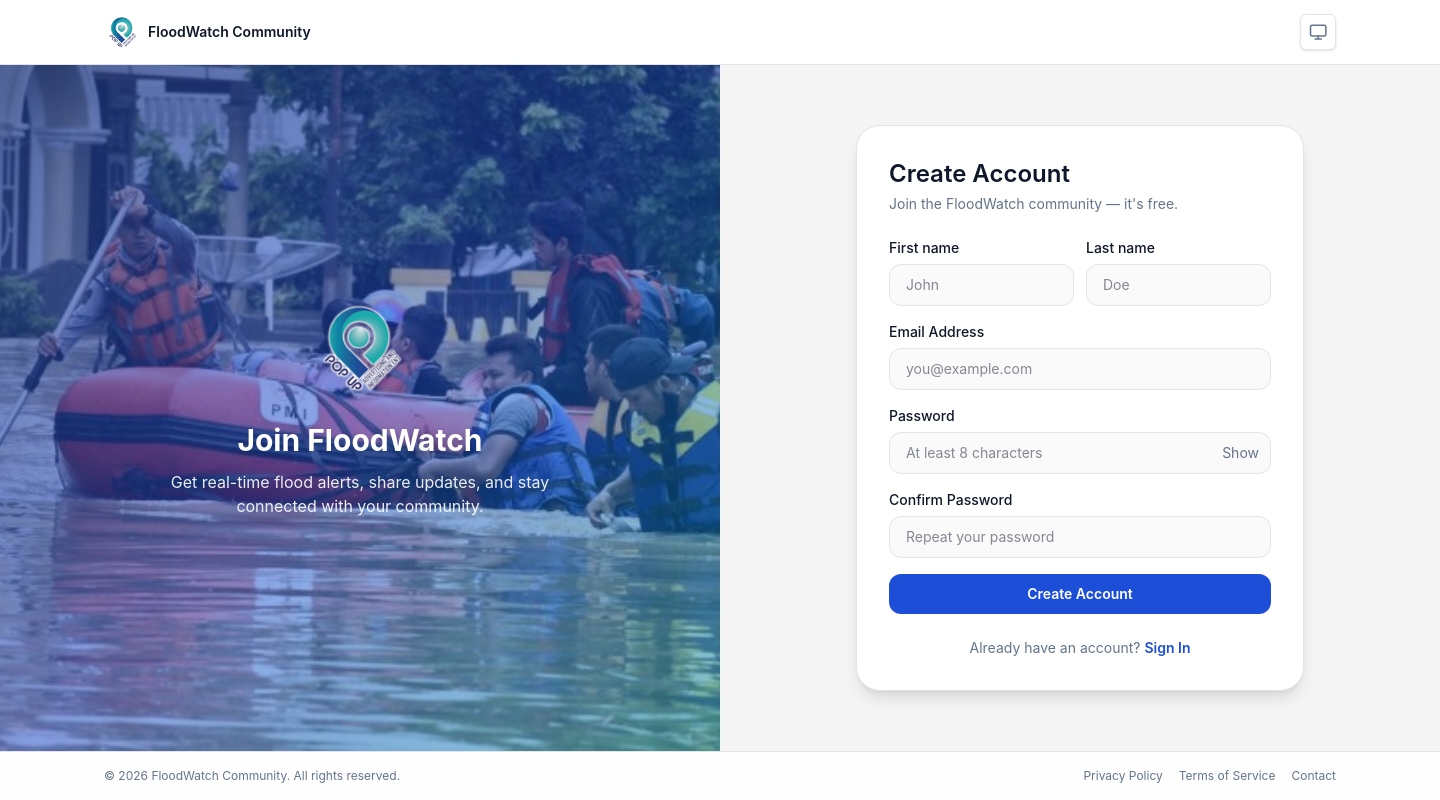
Test case: Community · register › surfaces the rate-limit message on 429 (no dead-end)
Type "Ada" into the field with id "firstName". click: (982, 285)
box: [889,264,1074,306]
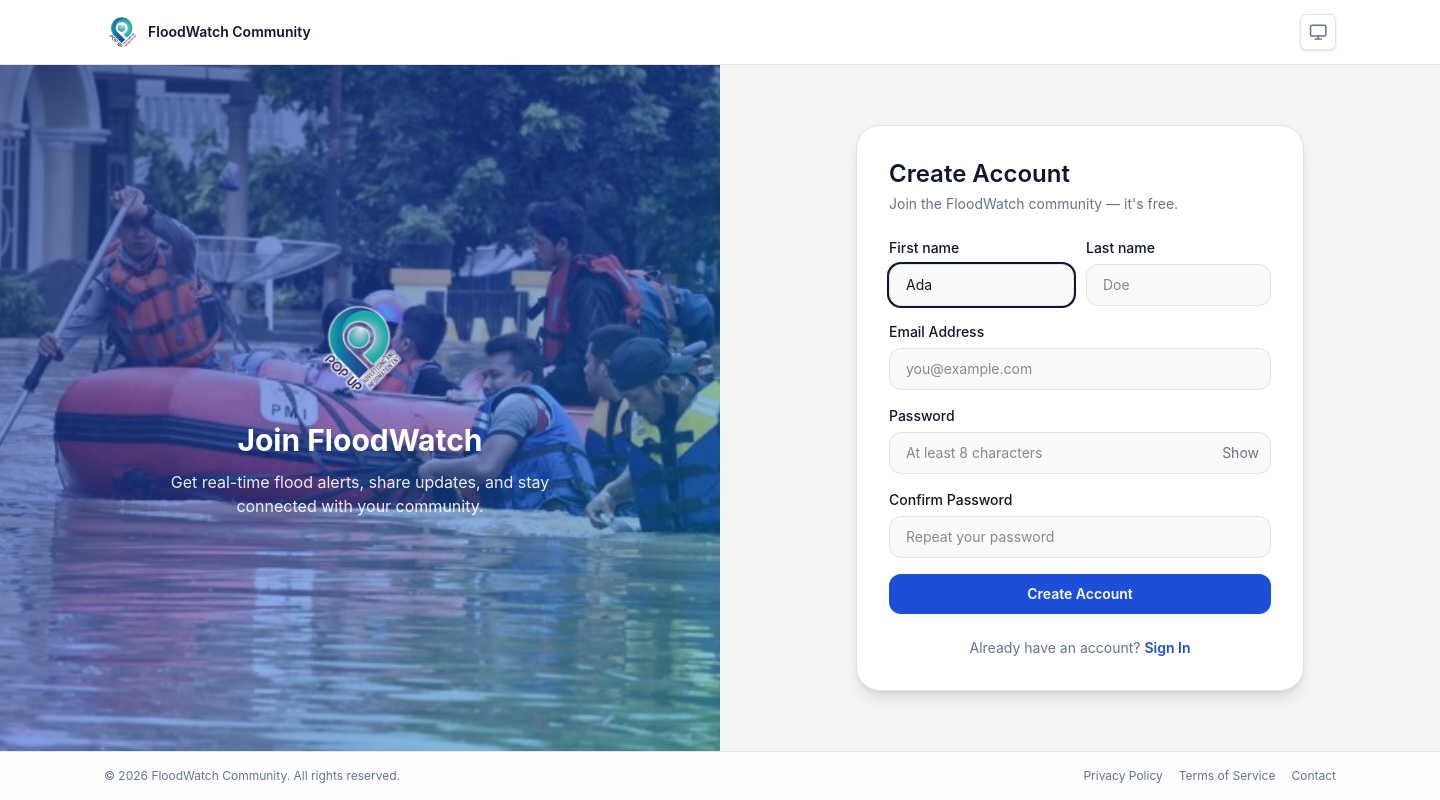
Type "Lovelace" into the field with id "lastName". click: (1179, 285)
box: [1086,264,1271,306]
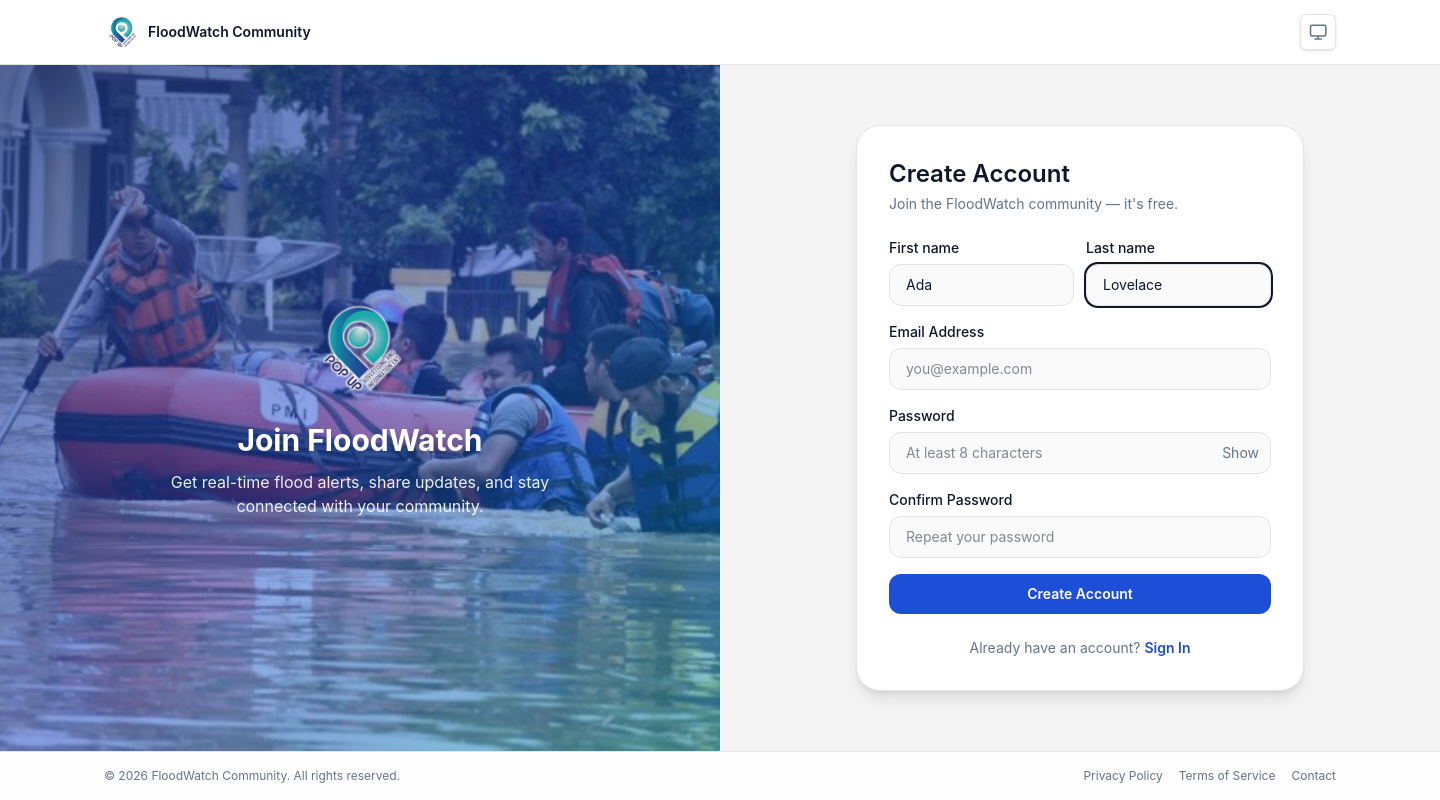
Type "ada@example.com" into the field with id "email". click: (1080, 369)
box: [889,348,1271,390]
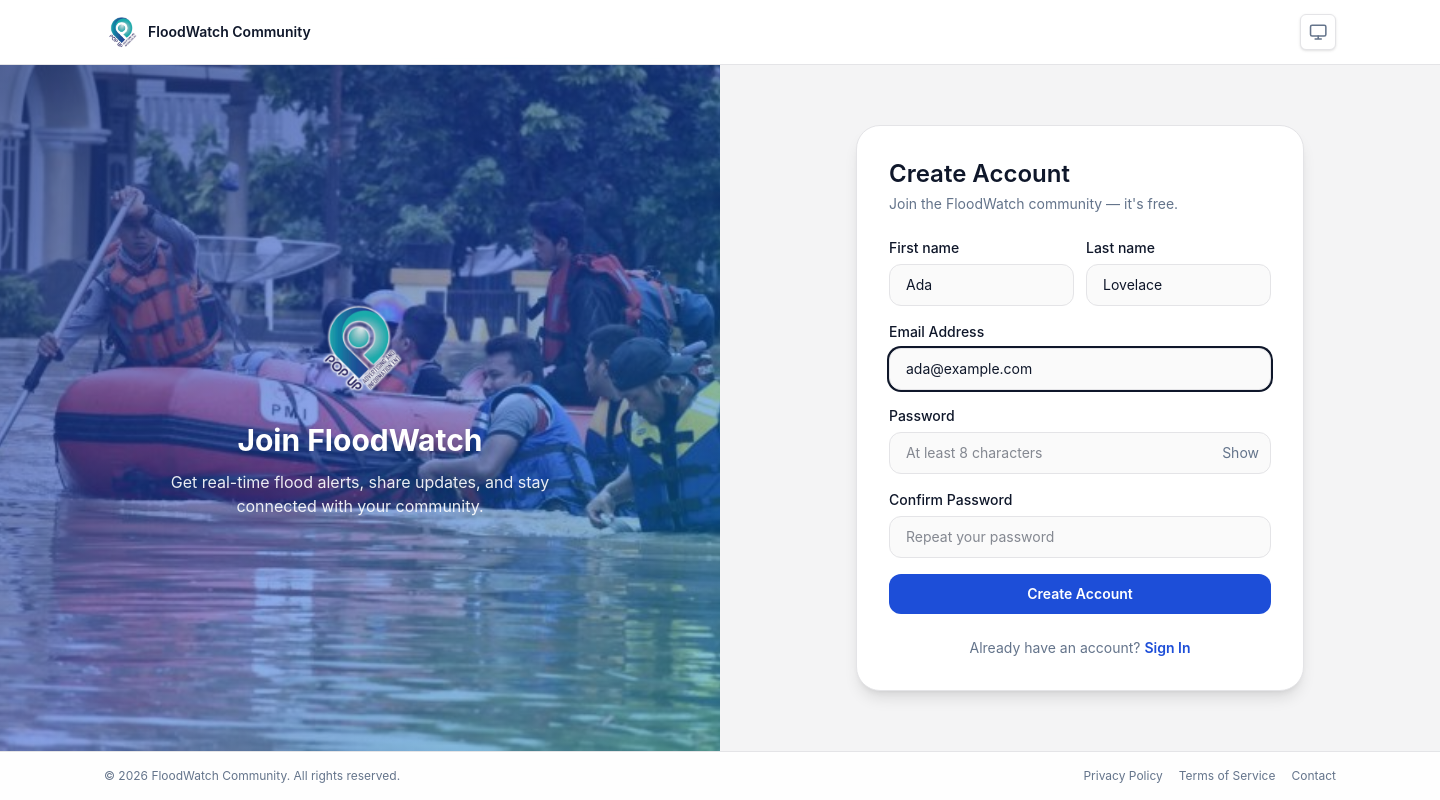
Type "Password@123" into the password field labelled "Password". click: (1080, 453)
box: [889,432,1271,474]
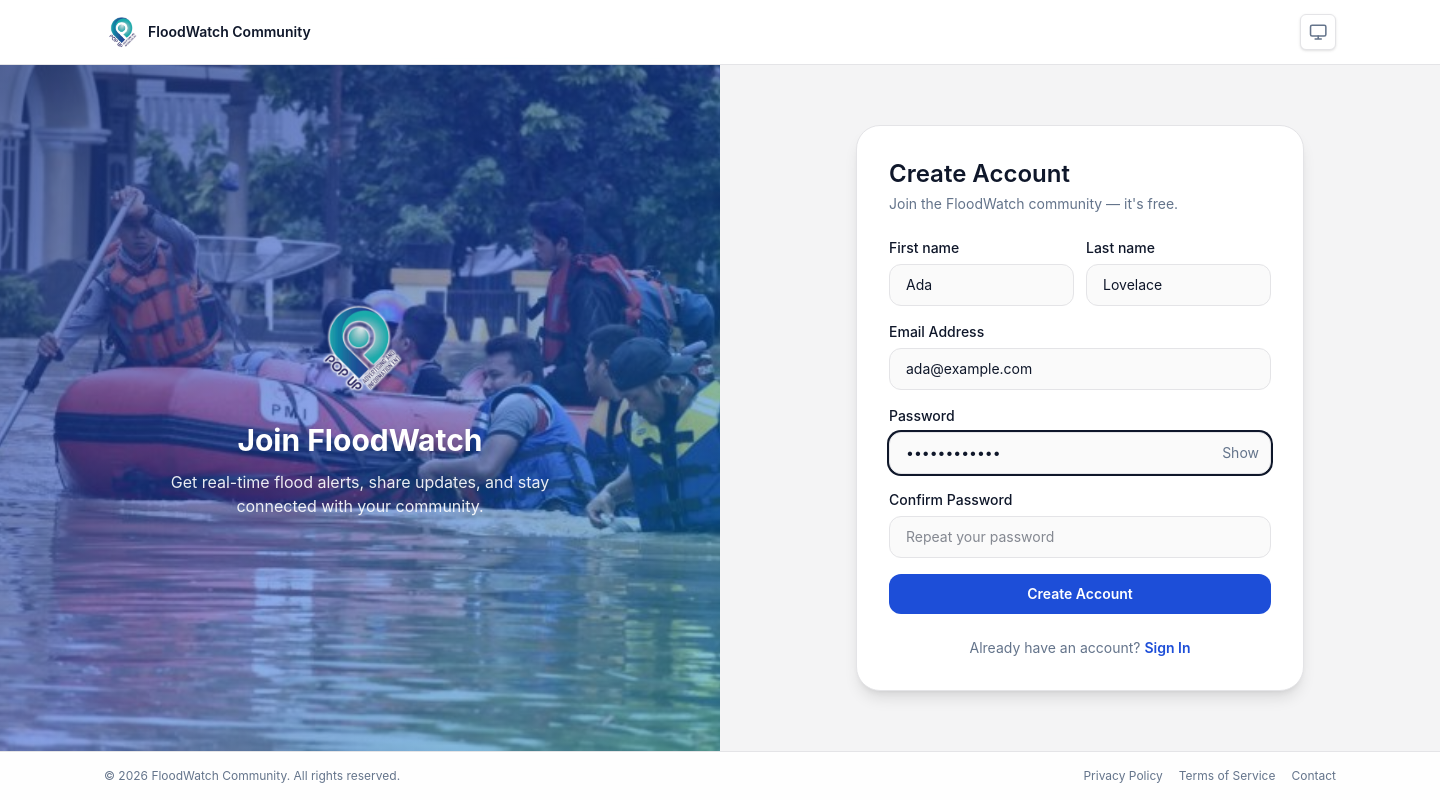
Type "Password@123" into the password field with id "confirmPassword". click: (1080, 537)
box: [889,516,1271,558]
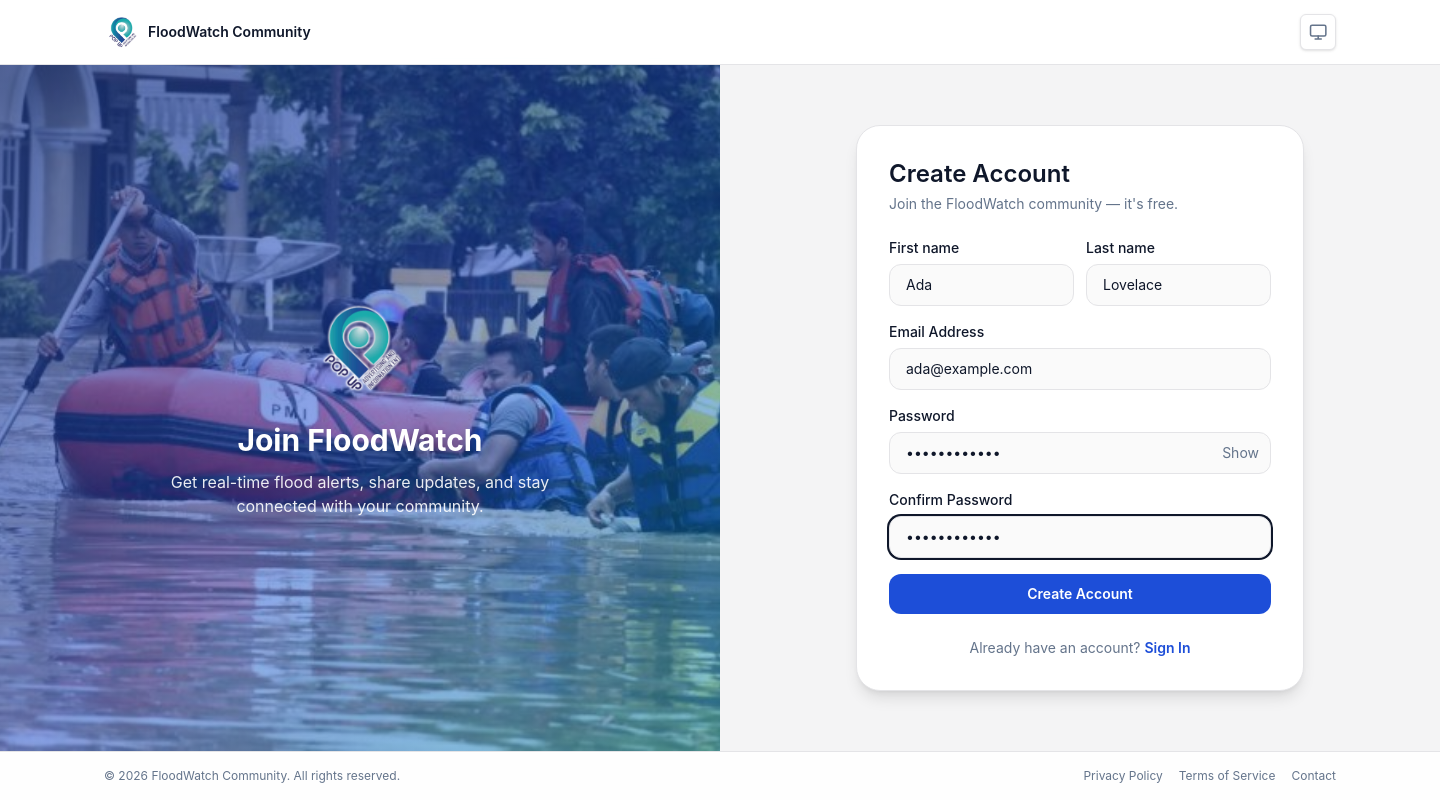
Click the button with test id "register-submit". click: (1080, 594)
box: [889,574,1271,614]
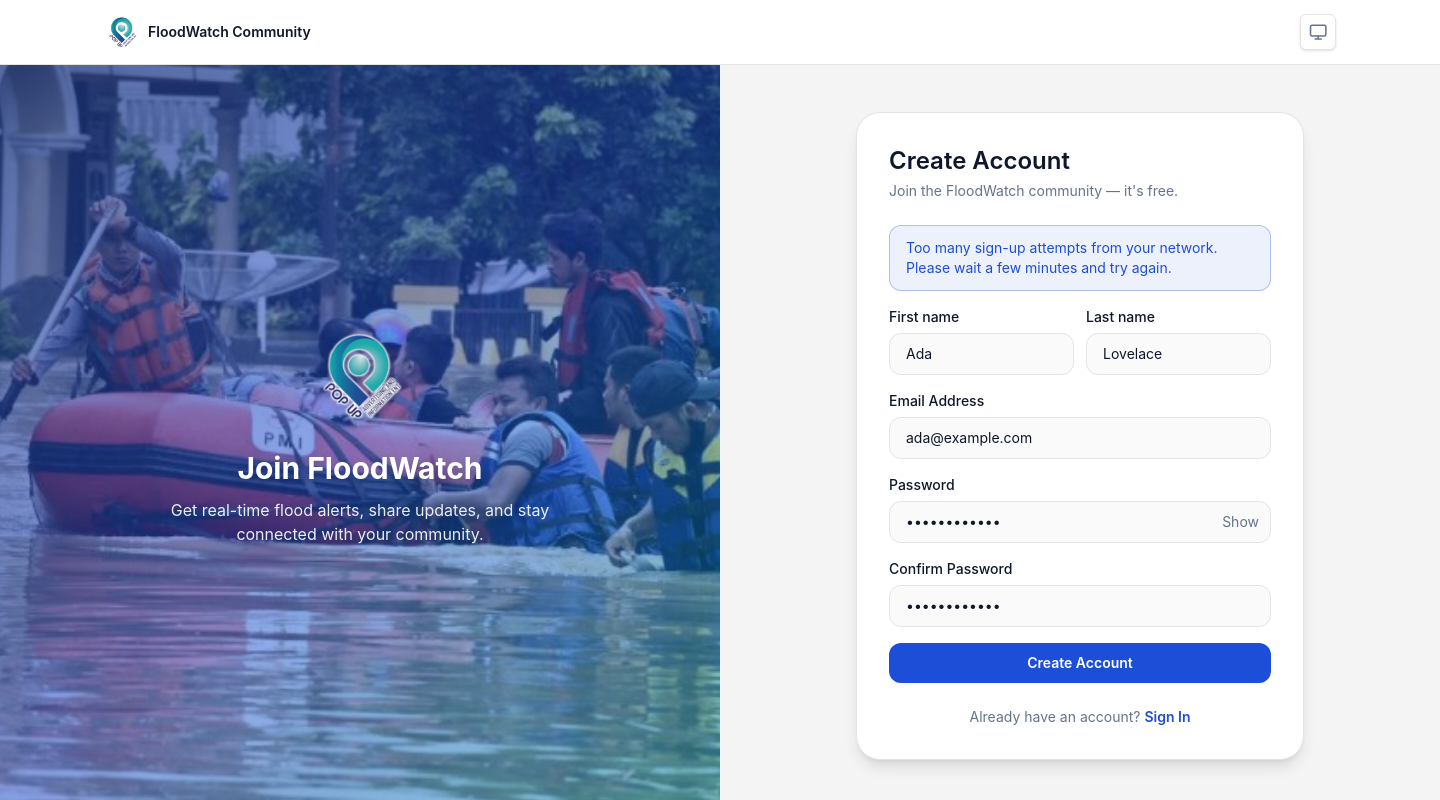
Check: the text with test id "register-error" shows "Too many", box [906,239,1218,276]
